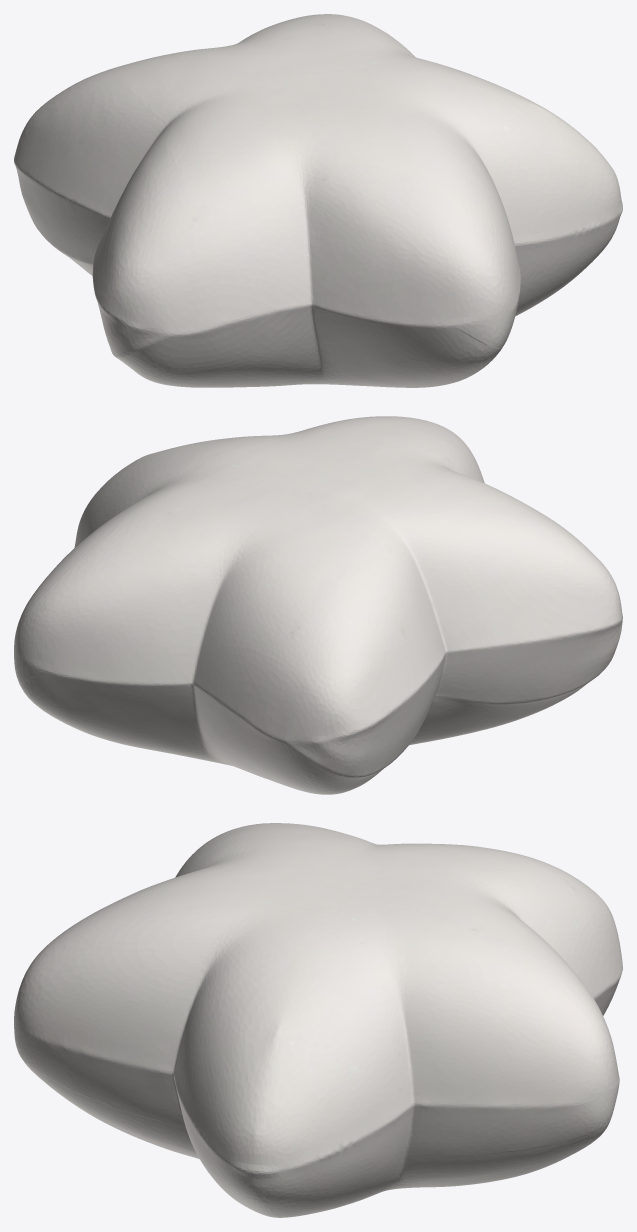
Rendered from star_5.glb.
3 views of the same model, one above another, from view 1: azimuth 30°, elevation 25°; view 2: azimuth 150°, elevation 25°; view 3: azimuth 270°, elevation 25° (orthographic). The views are drawn at different scales.
Visible parts, largest first — view 1: tripo_node_adeea5ea-bb63-447a-aa01-21b7b03075ce; view 2: tripo_node_adeea5ea-bb63-447a-aa01-21b7b03075ce; view 3: tripo_node_adeea5ea-bb63-447a-aa01-21b7b03075ce.
Part boxes in pixels (x1=…): tripo_node_adeea5ea-bb63-447a-aa01-21b7b03075ce: x1=14, y1=14, x2=622, y2=387; tripo_node_adeea5ea-bb63-447a-aa01-21b7b03075ce: x1=14, y1=416, x2=622, y2=794; tripo_node_adeea5ea-bb63-447a-aa01-21b7b03075ce: x1=14, y1=823, x2=622, y2=1217.
Size of the model in its own units: 0.9716 by 0.4595 by 0.955.
1 material, 1 textured.
